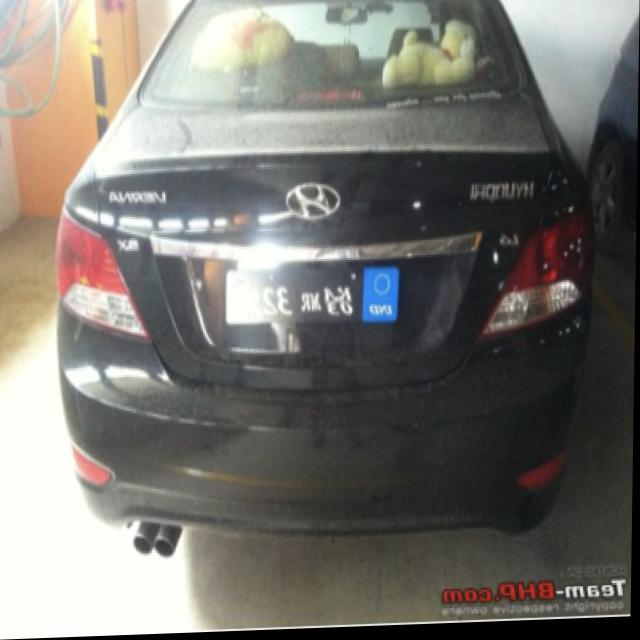licence: (230, 264, 400, 328)
